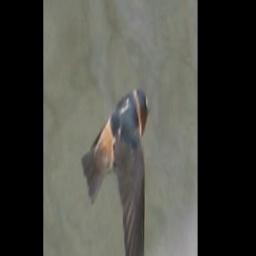Swallow: (81, 78, 151, 256)
